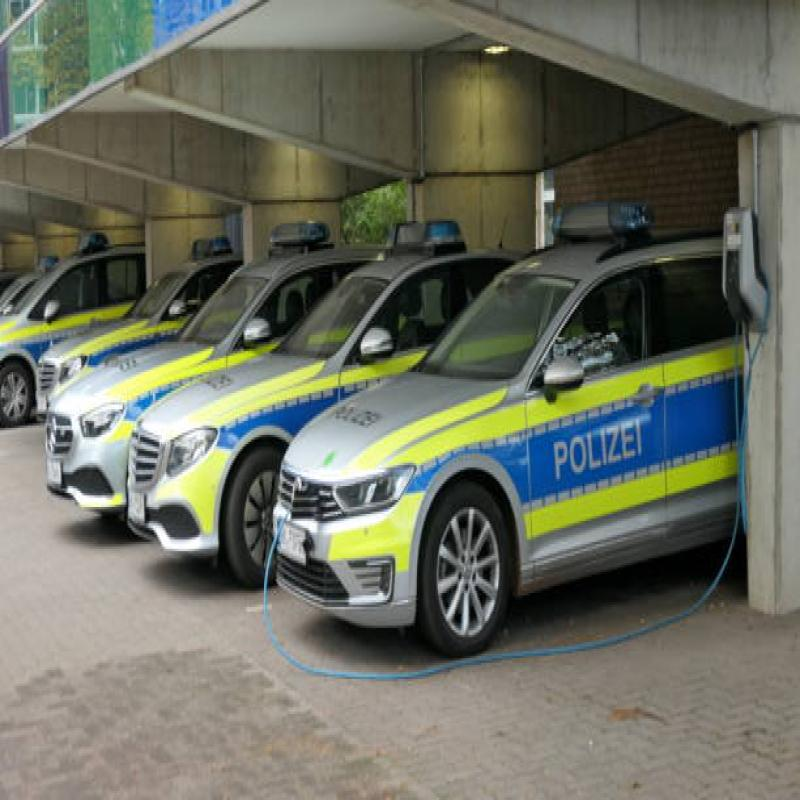AmbulanceSiren: (543, 192, 654, 249), (376, 199, 468, 262), (266, 206, 330, 259), (181, 228, 242, 269), (70, 228, 114, 262)
